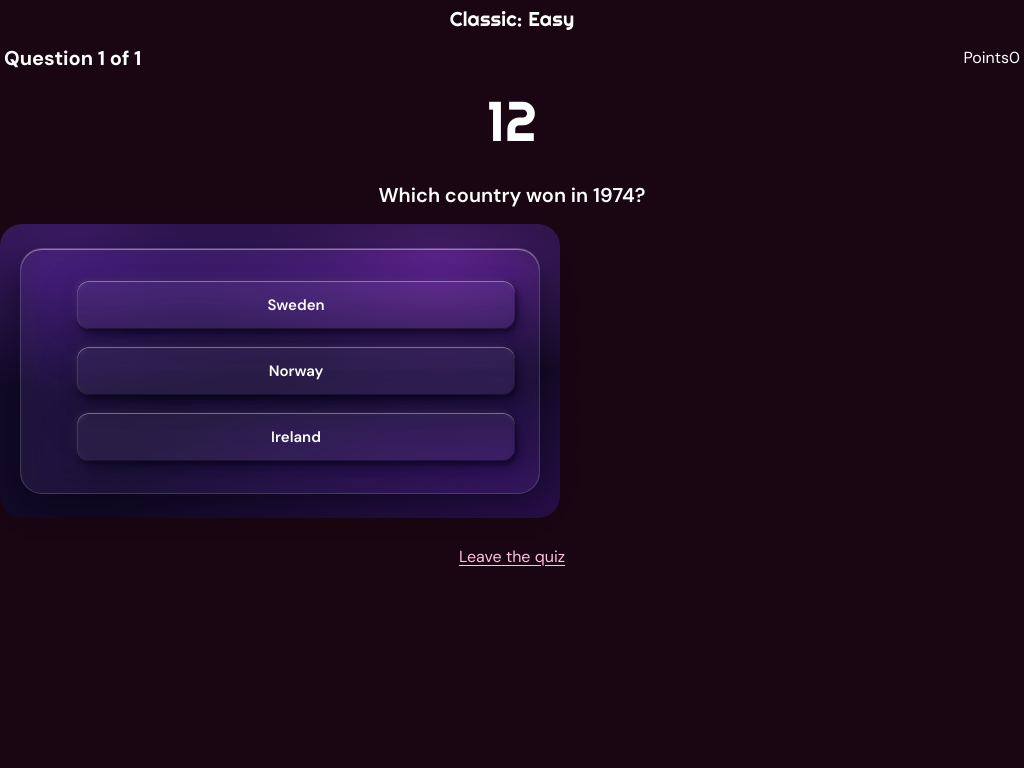
Scenario: Quiz answer selection (#22) › takes a tap as the answer at once: marks right and wrong, with a glyph and in words
What coordinates should you click on to do the following:
click the button "Norway"
I would click on:
 (296, 371)
Its box is [77,347,515,395].
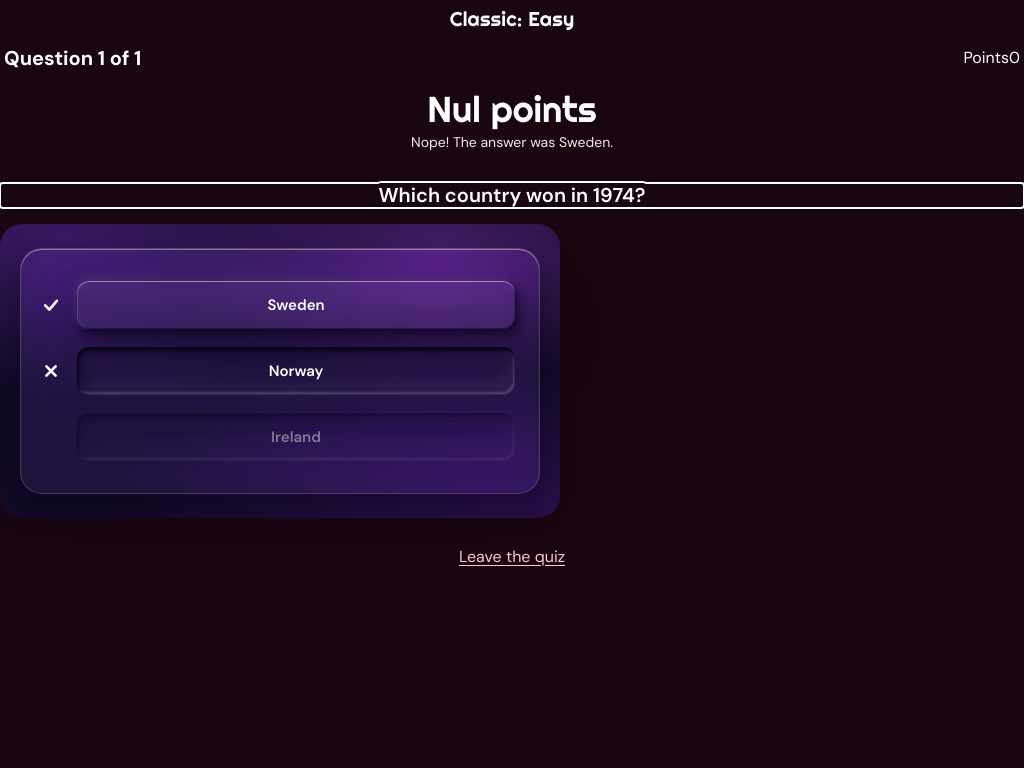
Expected: the button "Sweden" is disabled, [77,281,515,329]
Now the button "Norway" is disabled, box [77,347,515,395]
Now the button "Ireland" is disabled, box [77,413,515,461]
